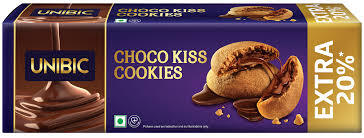VEG: (112, 114, 127, 129)
